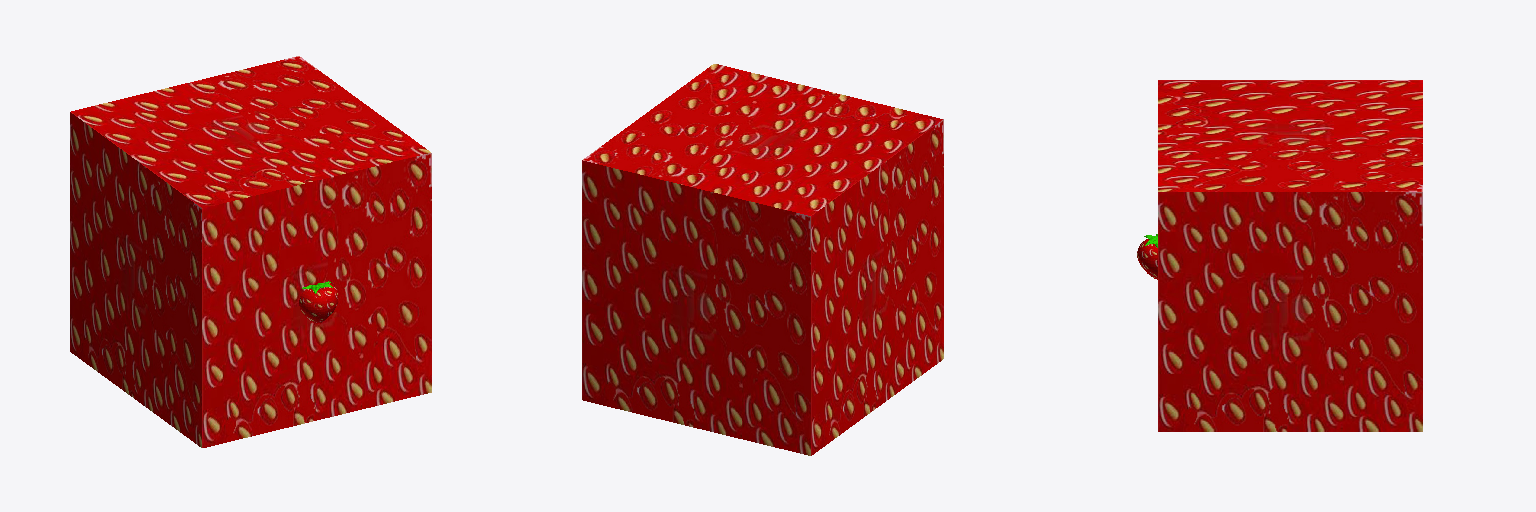
3 views of the same model, side by side, from view 1: azimuth 30°, elevation 25°; view 2: azimuth 150°, elevation 25°; view 3: azimuth 270°, elevation 25° (orthographic).
Parts seen in each view (by area): view 1: Sphere02; view 2: Sphere02; view 3: Sphere02.
Part boxes in pixels (x1,y1,x2,y2): Sphere02: (70, 56, 431, 447); Sphere02: (582, 64, 943, 455); Sphere02: (1137, 80, 1422, 431).
Size of the model in its own units: 200 by 200 by 216.
3 materials, 1 textured.